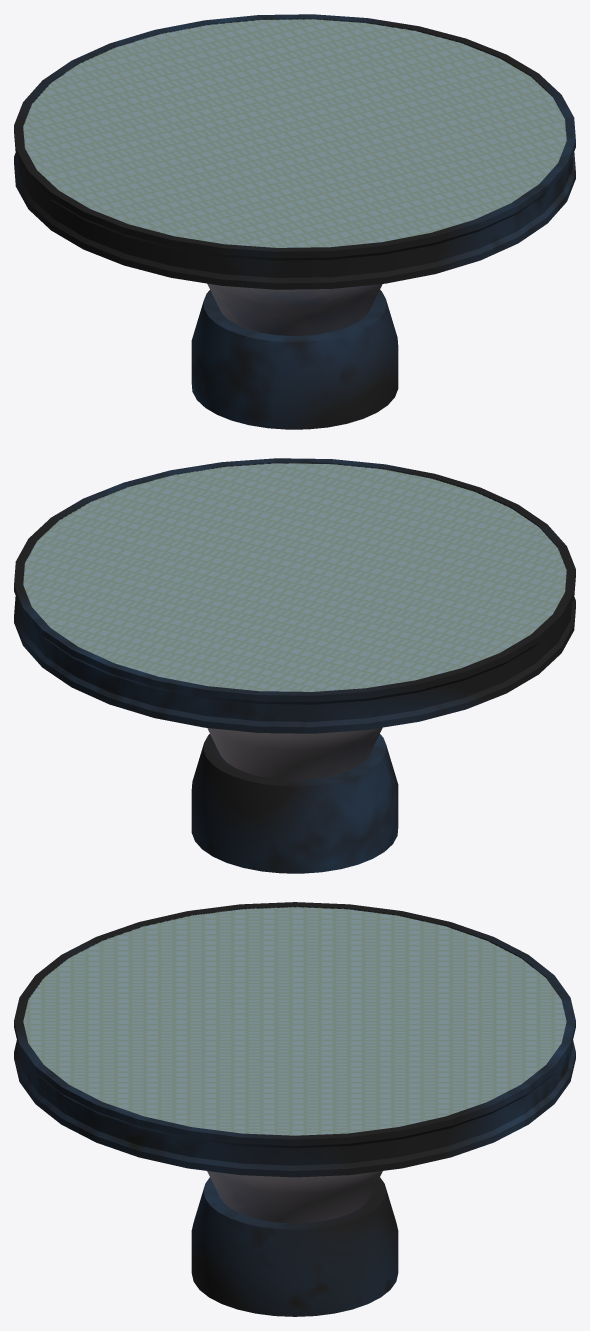
The model's file is RS_table.fbx.
3 views of the same model, one above another, from view 1: azimuth 30°, elevation 25°; view 2: azimuth 150°, elevation 25°; view 3: azimuth 270°, elevation 25° (orthographic).
Parts seen in each view (by area): view 1: RS_table; view 2: RS_table; view 3: RS_table.
Part boxes in pixels (bbox=[...]): RS_table: bbox=[14, 14, 575, 429]; RS_table: bbox=[14, 458, 575, 873]; RS_table: bbox=[14, 902, 575, 1316].
Bounding box in the file's own units: 200 × 99.13 × 200.
